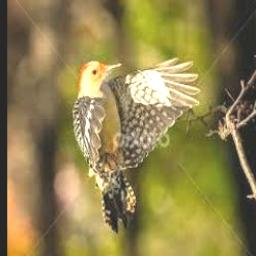Woodpecker: (72, 57, 200, 233)
